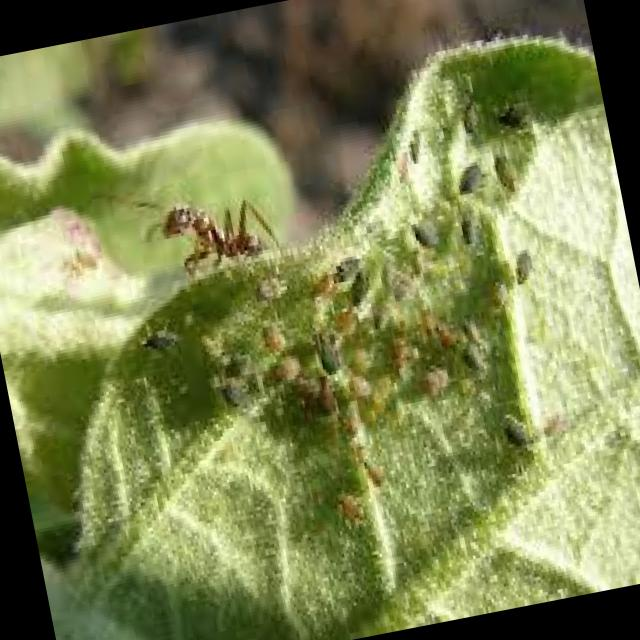aphid: (135, 310, 187, 364), (484, 144, 526, 202), (446, 151, 491, 203), (326, 477, 368, 532), (401, 203, 444, 256), (305, 320, 344, 378), (501, 238, 542, 293), (244, 262, 295, 306), (334, 354, 377, 406), (212, 341, 258, 386), (493, 404, 535, 453), (264, 341, 306, 390), (450, 332, 492, 381), (448, 88, 486, 142), (326, 246, 367, 290), (253, 311, 290, 358), (306, 366, 339, 418), (452, 205, 488, 252), (212, 372, 248, 417), (426, 312, 456, 355)
